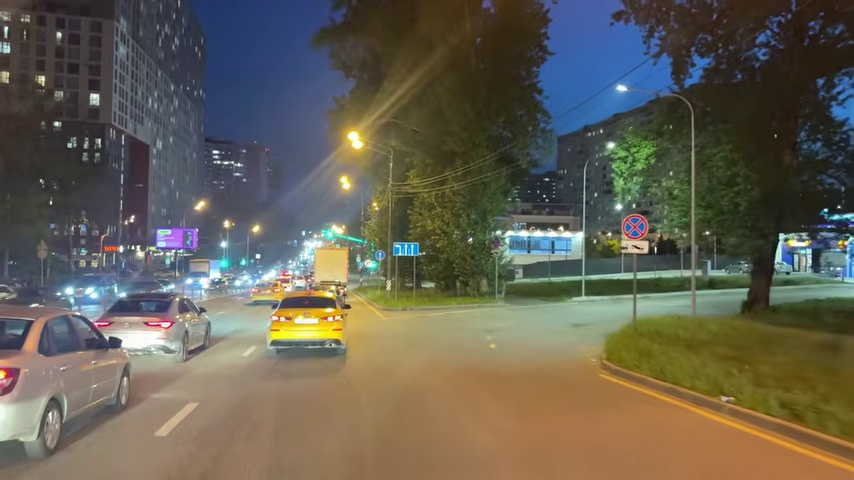acesa: (342, 129, 366, 153), (337, 174, 355, 193), (192, 197, 209, 214), (248, 221, 264, 237)
